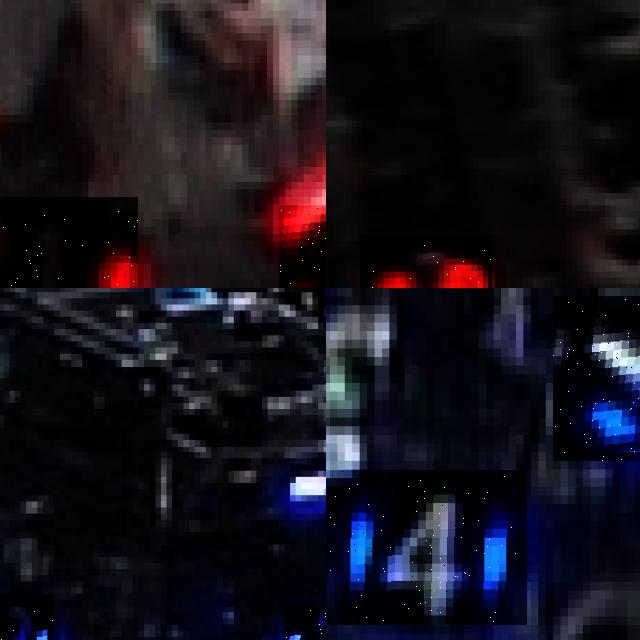B2: (0, 593, 54, 640)
B4: (326, 470, 527, 625), (553, 296, 640, 460)
R1: (0, 196, 138, 288)
R2: (359, 235, 492, 288)
